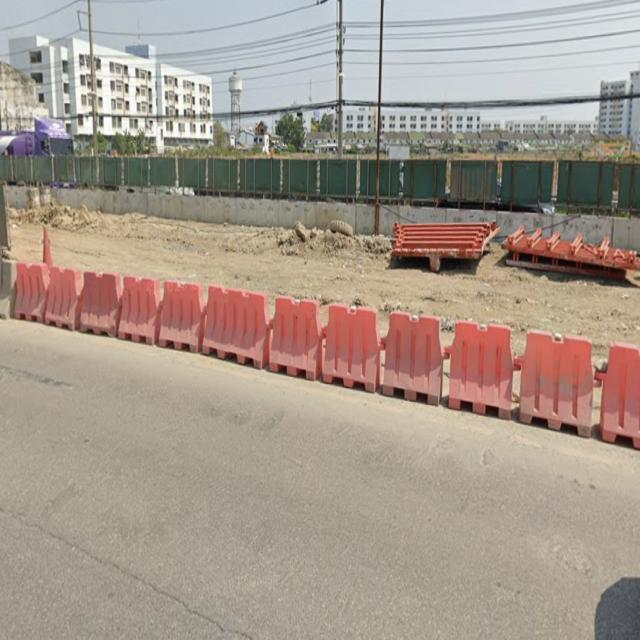fallen_object: (483, 325, 640, 444), (367, 312, 508, 428), (253, 290, 387, 392), (149, 270, 268, 383), (80, 255, 152, 353), (3, 246, 75, 333), (30, 212, 56, 266)
